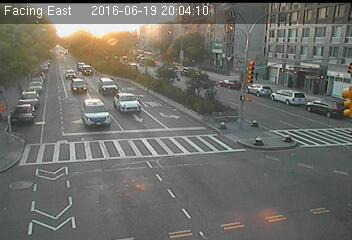neg: (139, 142, 182, 199), (29, 76, 68, 129), (199, 165, 232, 209), (203, 42, 228, 76), (66, 29, 91, 63), (107, 22, 129, 51), (273, 141, 295, 169), (109, 80, 130, 108), (235, 117, 255, 145), (316, 44, 336, 71), (279, 78, 299, 104), (36, 163, 54, 186), (206, 95, 223, 118), (105, 139, 122, 162), (134, 47, 150, 68), (278, 210, 288, 224)
